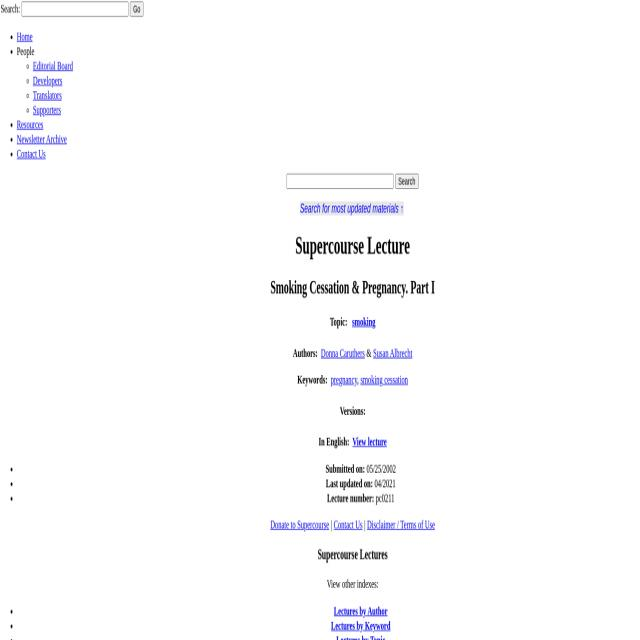button: (394, 172, 418, 188), (129, 0, 143, 16)
field: (286, 172, 393, 188), (21, 0, 128, 16)
